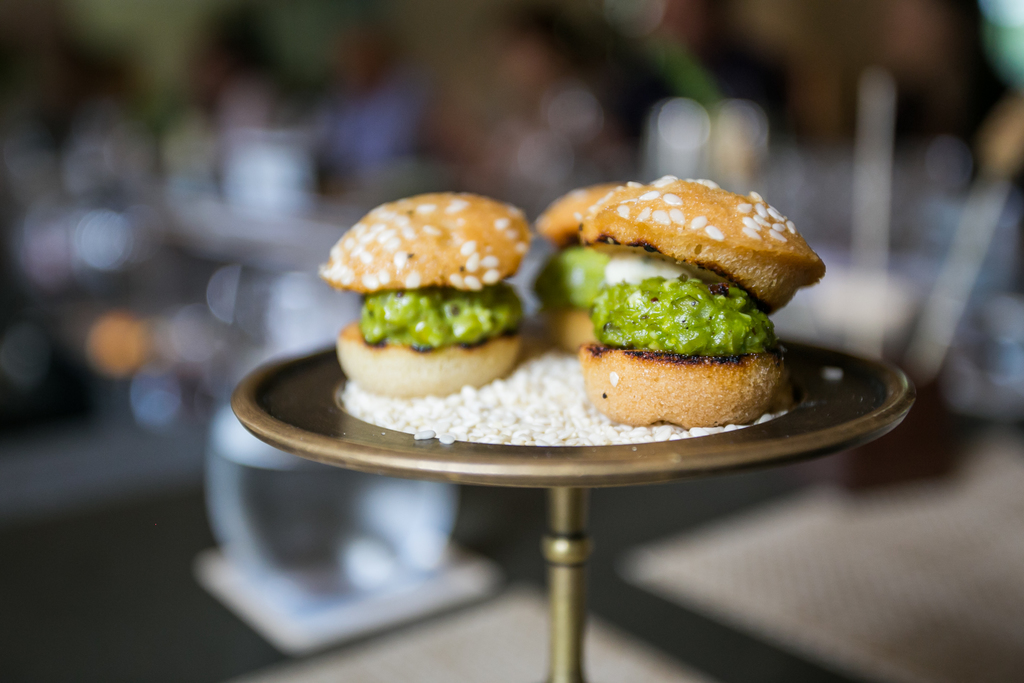Hamburger: (578, 180, 823, 424), (316, 194, 535, 398), (535, 185, 611, 348)
